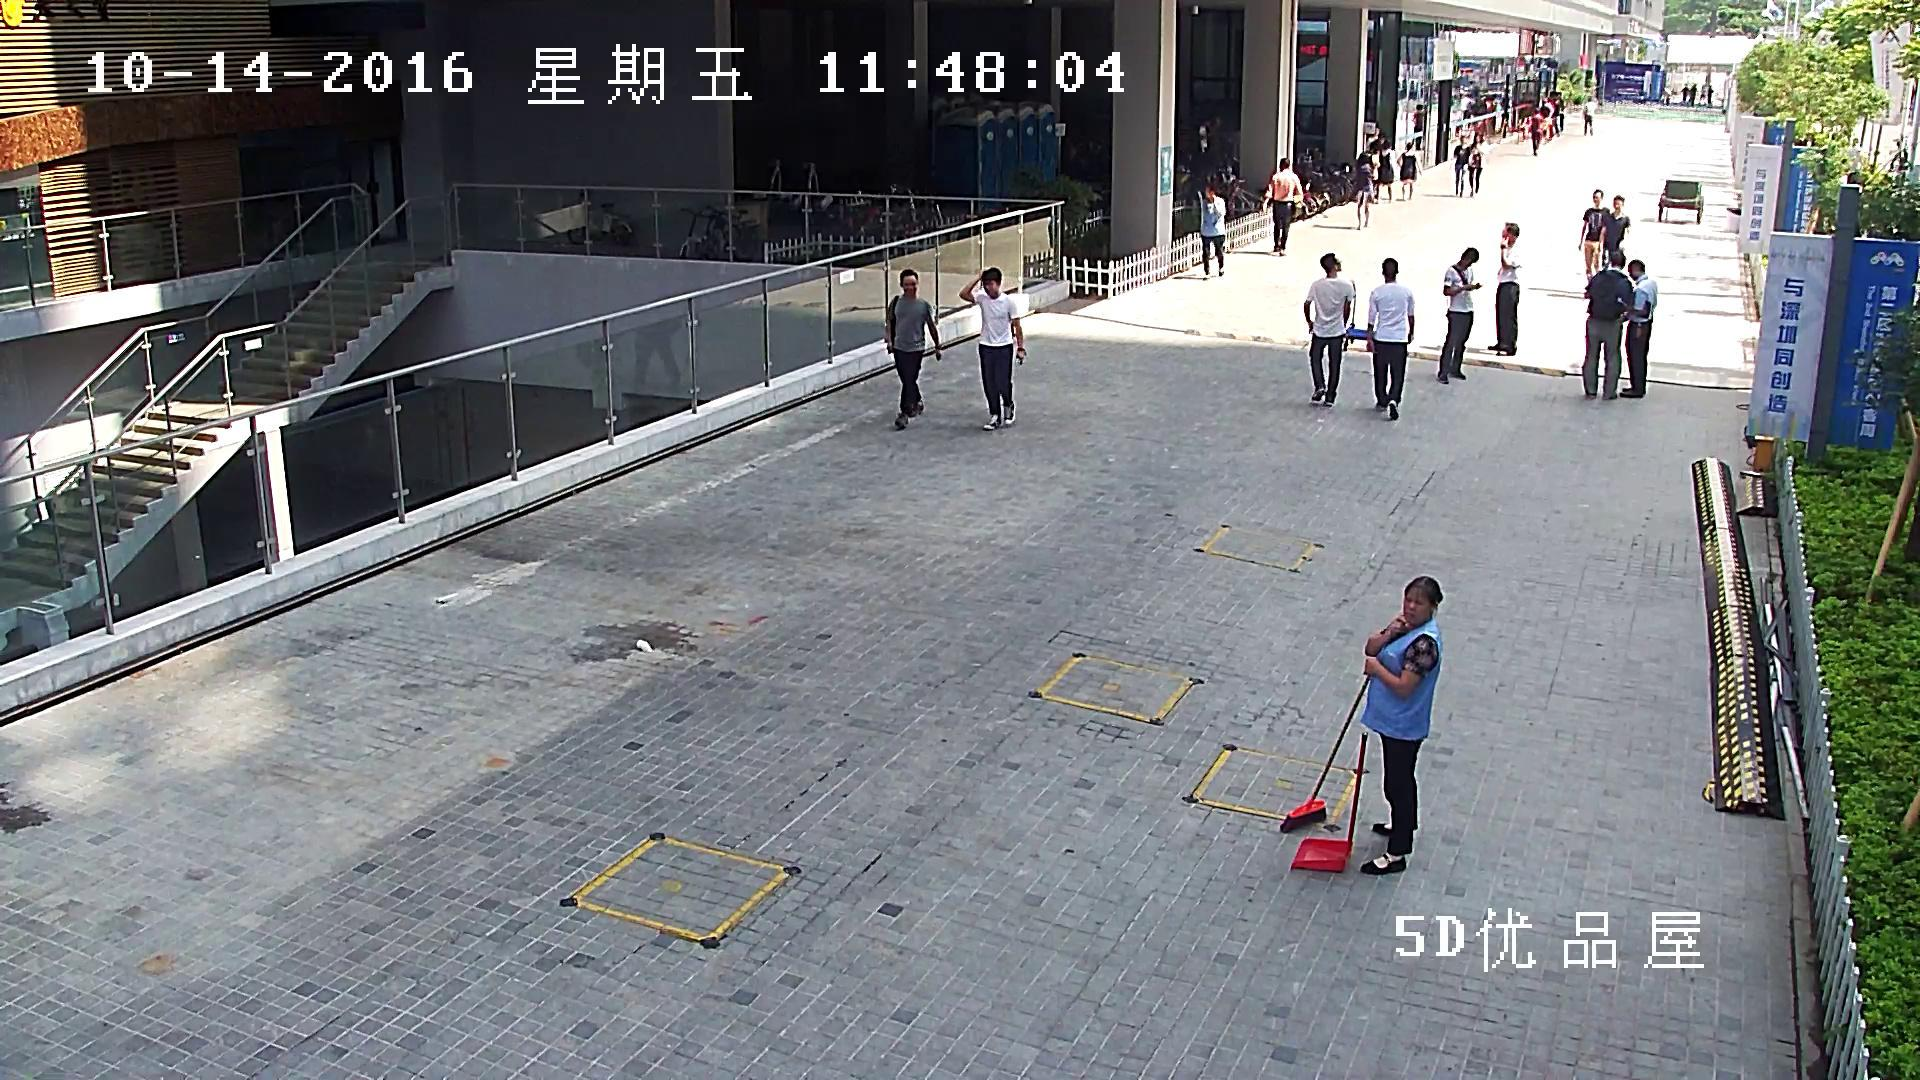person: (1279, 575, 1442, 874), (1358, 575, 1442, 874), (959, 266, 1025, 429), (886, 269, 941, 427), (1304, 252, 1354, 406), (1582, 253, 1634, 399), (1367, 259, 1414, 419), (1437, 248, 1483, 383), (1620, 260, 1656, 398), (1487, 223, 1521, 356), (1263, 158, 1302, 255), (1578, 190, 1611, 281), (1598, 194, 1630, 269), (1201, 182, 1224, 281), (1350, 152, 1374, 229), (1395, 143, 1421, 200), (1373, 139, 1395, 204), (1453, 135, 1468, 197), (1468, 143, 1481, 196), (1530, 110, 1543, 154), (1582, 98, 1594, 135), (1543, 97, 1554, 138), (1414, 104, 1423, 149), (1555, 91, 1564, 130), (1551, 100, 1559, 136)
